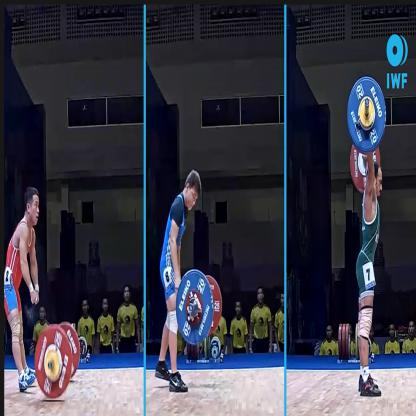Barbell: (31, 322, 74, 400), (346, 74, 387, 155), (175, 268, 214, 347)
